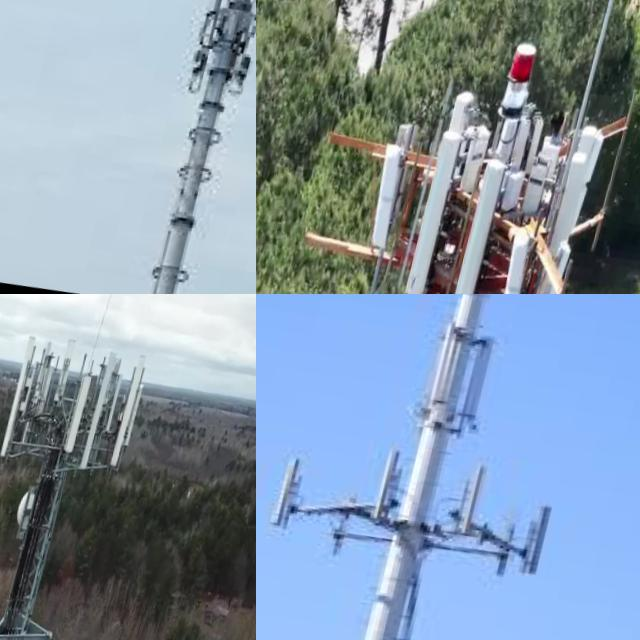GSM Antenna: (400, 124, 470, 294), (443, 156, 511, 294), (552, 125, 614, 252), (362, 141, 417, 264), (107, 354, 152, 489), (0, 332, 43, 464), (82, 349, 121, 479), (363, 445, 414, 534), (518, 501, 570, 586), (492, 230, 548, 294), (269, 453, 312, 533), (458, 463, 495, 544), (65, 375, 98, 462), (526, 243, 578, 294), (52, 335, 84, 411), (197, 0, 241, 27)
Microwave Antenna: (11, 486, 47, 549)
